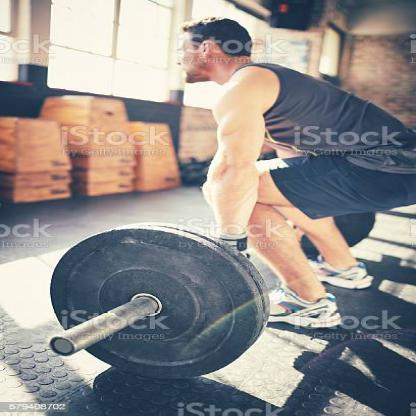barbell: (49, 222, 270, 378)
